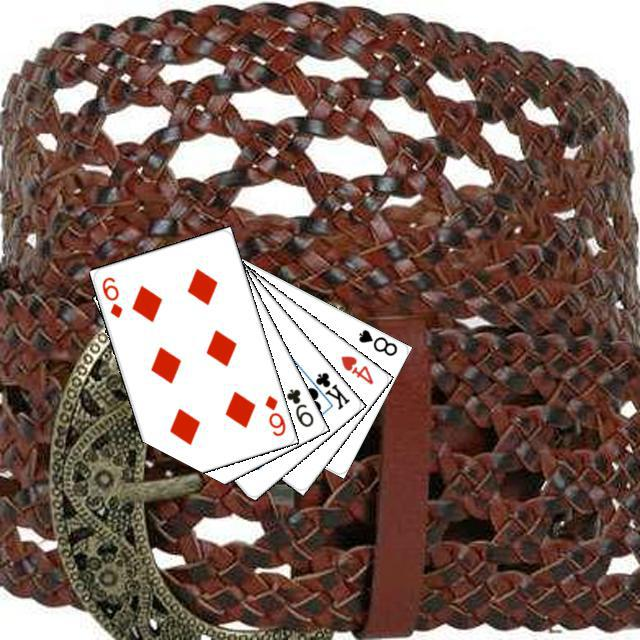4h: (336, 350, 375, 386)
6d: (260, 390, 287, 438), (97, 272, 124, 320)
8s: (353, 324, 399, 358)
9c: (281, 384, 315, 429)
Kc: (302, 367, 352, 412)
